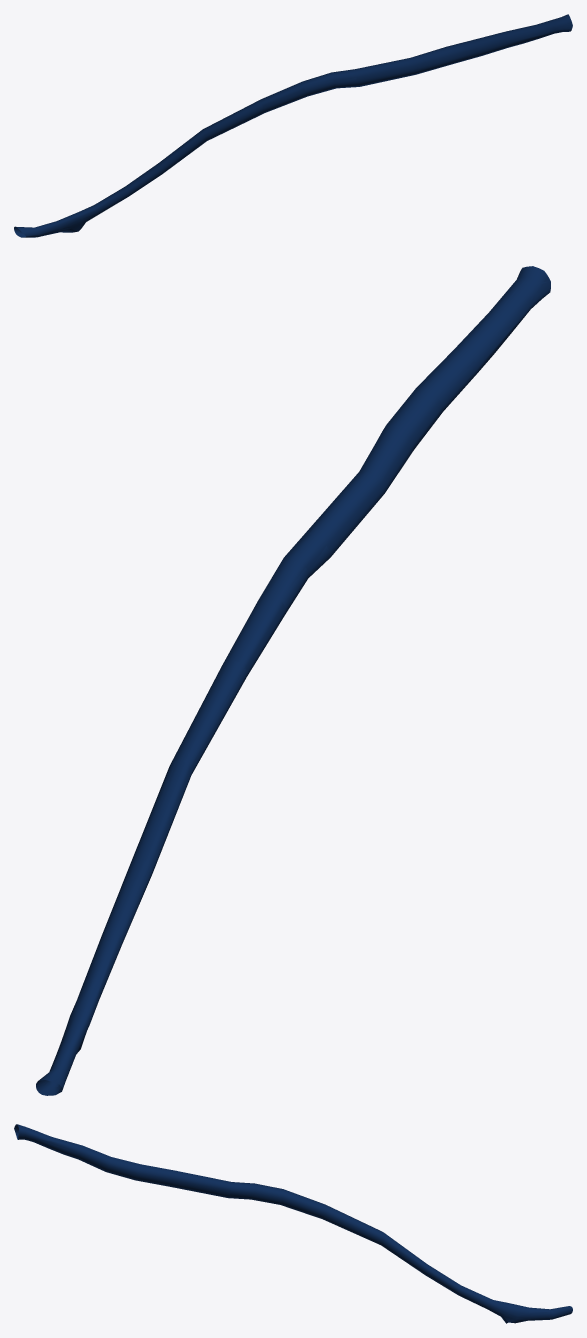
The model's file is L vena jugularis externa.fbx.
The picture shows the model from 3 angles, top to bottom: view 1: azimuth 90°, elevation 25°; view 2: azimuth 150°, elevation 25°; view 3: azimuth 270°, elevation 25°; orthographic projection. The views are drawn at different scales.
Parts seen in each view (by area): view 1: L vena jugularis externa, L vena jugularis externa low; view 2: L vena jugularis externa, L vena jugularis externa low; view 3: L vena jugularis externa, L vena jugularis externa low.
Boxes of the visible parts, box(x1,y1,x2,y2) form: L vena jugularis externa: box(14, 14, 572, 237); L vena jugularis externa low: box(14, 18, 571, 237); L vena jugularis externa: box(36, 266, 550, 1095); L vena jugularis externa low: box(36, 278, 549, 1095); L vena jugularis externa: box(14, 1124, 572, 1323); L vena jugularis externa low: box(14, 1124, 570, 1322).
Bounding box in the file's own units: 2.76 × 10.7 × 26.
